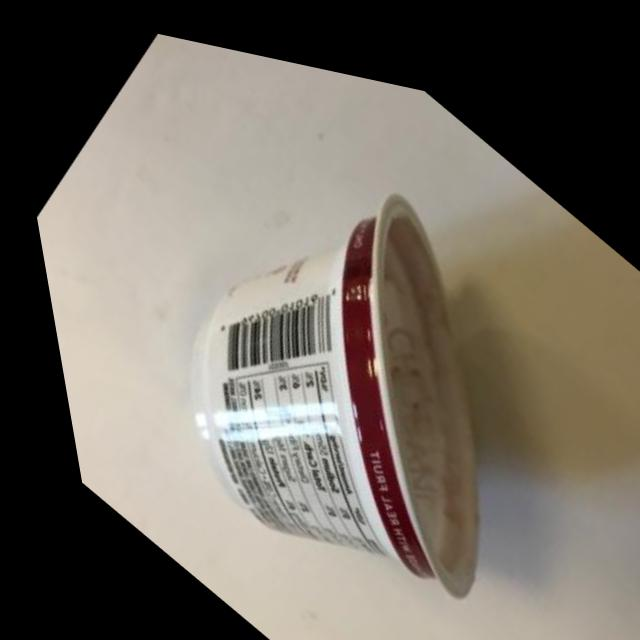trash: (50, 59, 640, 640)
